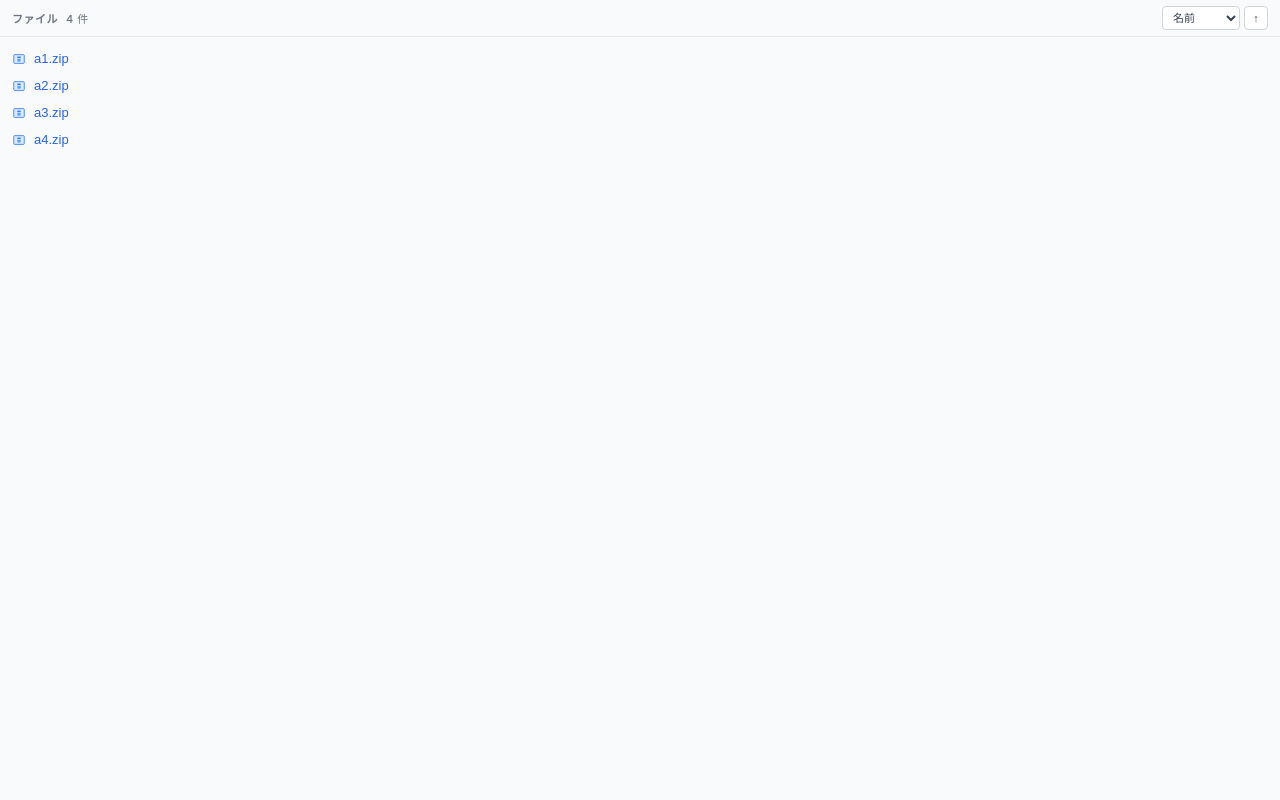
moving files to the trash › asks once and trashes all selected files after confirming
Click the option "a1.zip".
click(51, 58)  # box [0,45,1279,72]
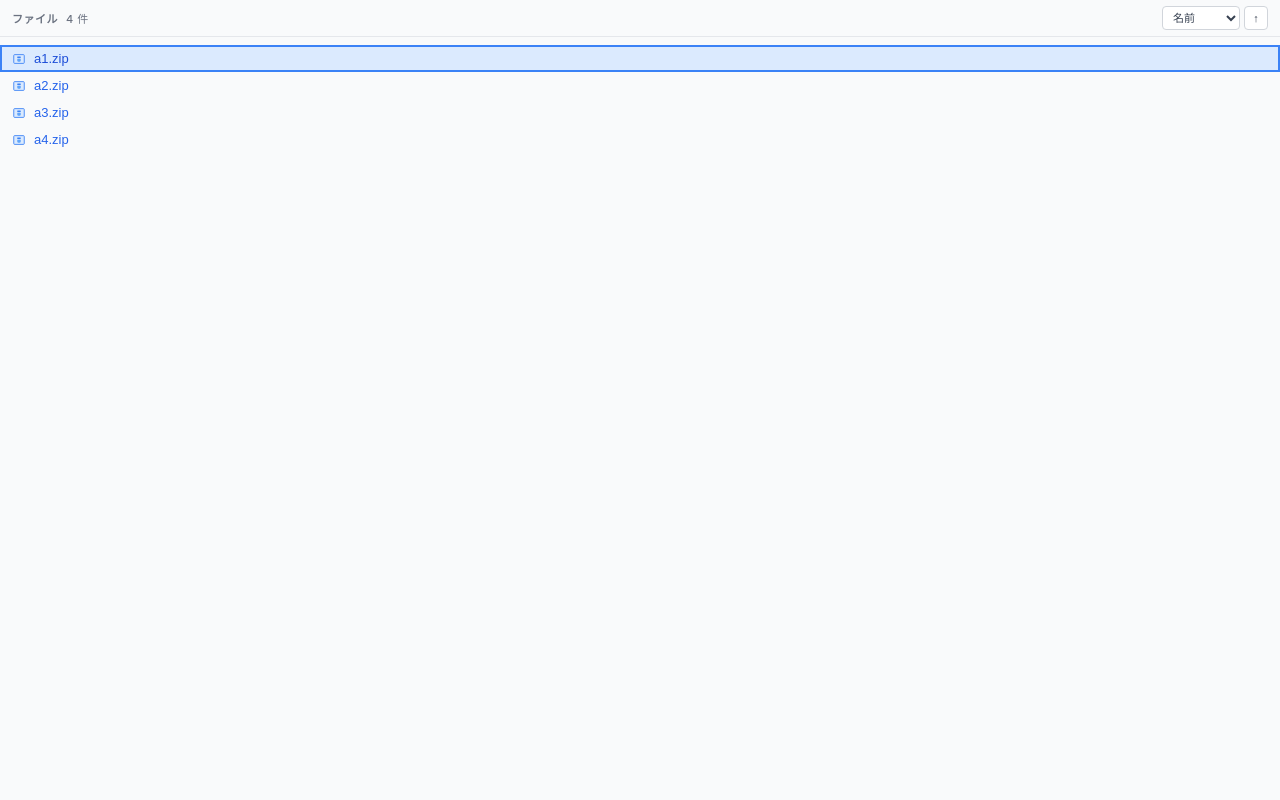
Type keys "{Shift>}"
Click the option "a3.zip".
click(51, 112)  # box [0,99,1279,126]
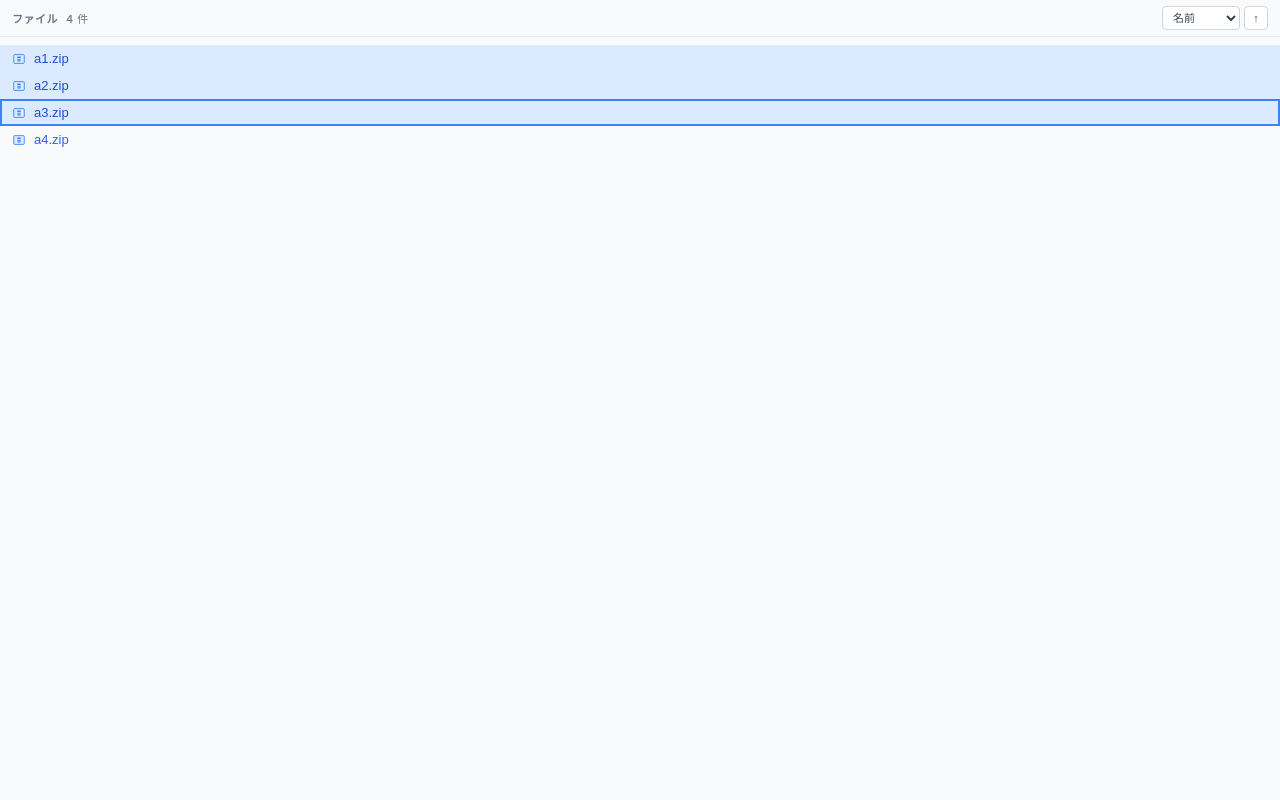
Type keys "{/Shift}{Delete}"
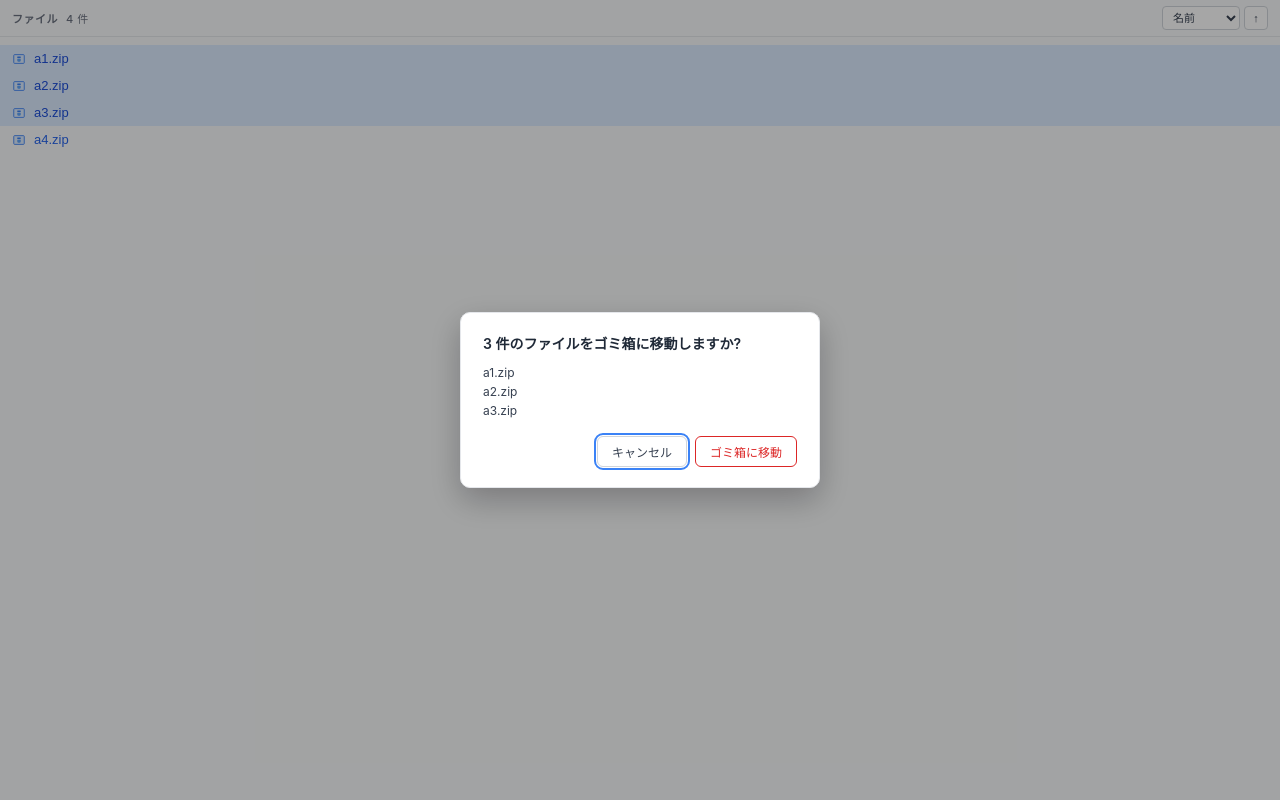
Expected: the number of dialogs is 1, [460,312,820,488]
Click the button "ゴミ箱に移動".
click(746, 452)  # box [695,436,797,467]
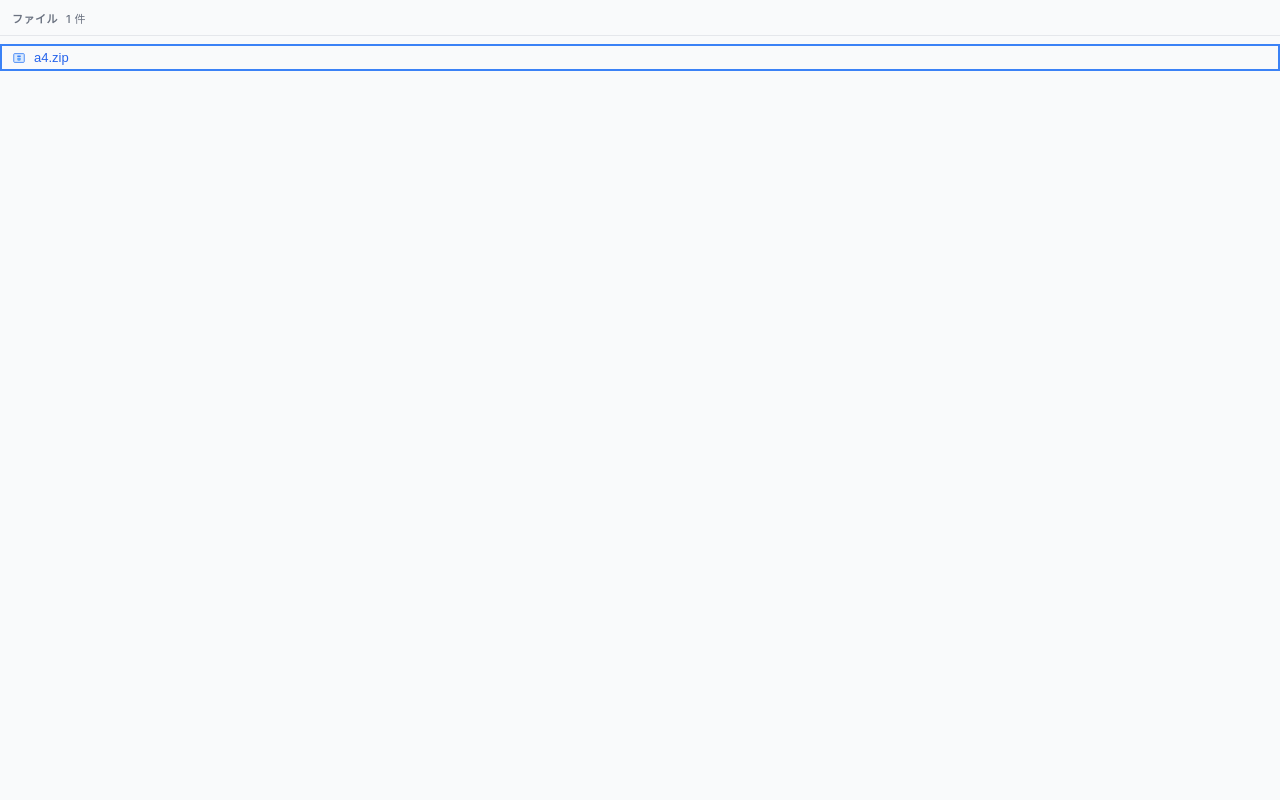
Expected: the option "a4.zip" is shown, [0,44,1279,71]
Expected: the option "a1.zip" is gone
Expected: the dialog is gone
